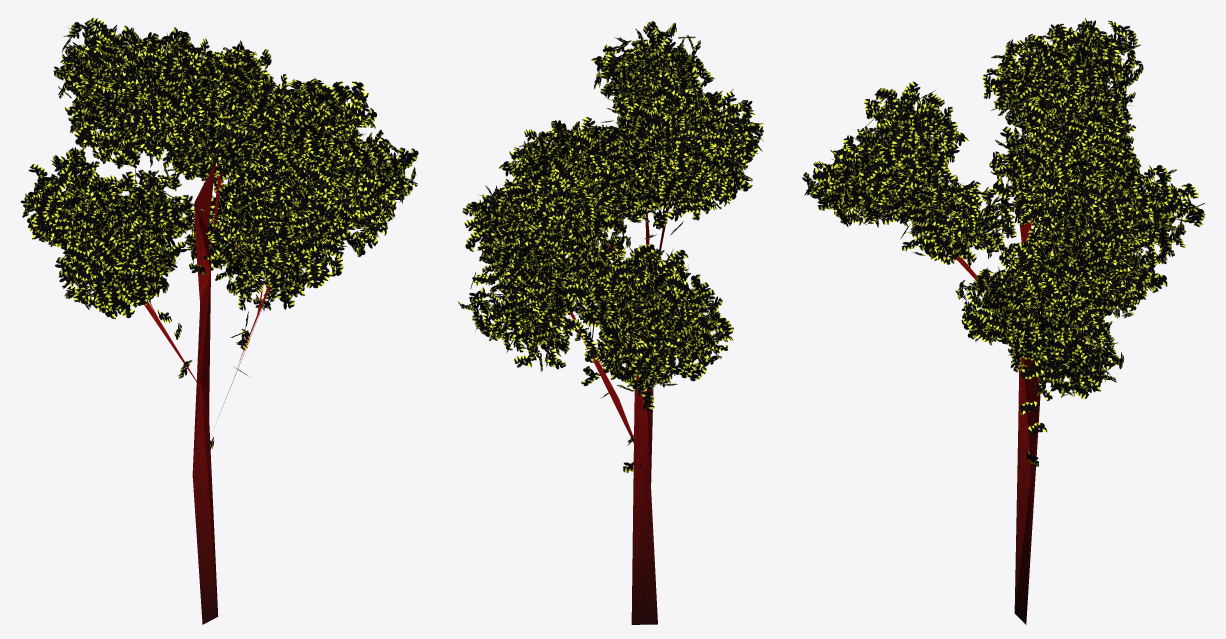
The model's file is cottonwood_river_v01_LOD1.glb.
3 renders of one model, left to right at view 1: azimuth 30°, elevation 25°; view 2: azimuth 150°, elevation 25°; view 3: azimuth 270°, elevation 25°, orthographic. The views are drawn at different scales.
Parts seen in each view (by area): view 1: cottonwood_river_v01_LOD1; view 2: cottonwood_river_v01_LOD1; view 3: cottonwood_river_v01_LOD1.
Boxes of the visible parts, bbox=[...] form: cottonwood_river_v01_LOD1: bbox=[20, 18, 418, 624]; cottonwood_river_v01_LOD1: bbox=[458, 21, 763, 624]; cottonwood_river_v01_LOD1: bbox=[802, 18, 1205, 624].
Bounding box in the file's own units: 16.88 × 30.66 × 20.08.
2 materials, 2 textured.
